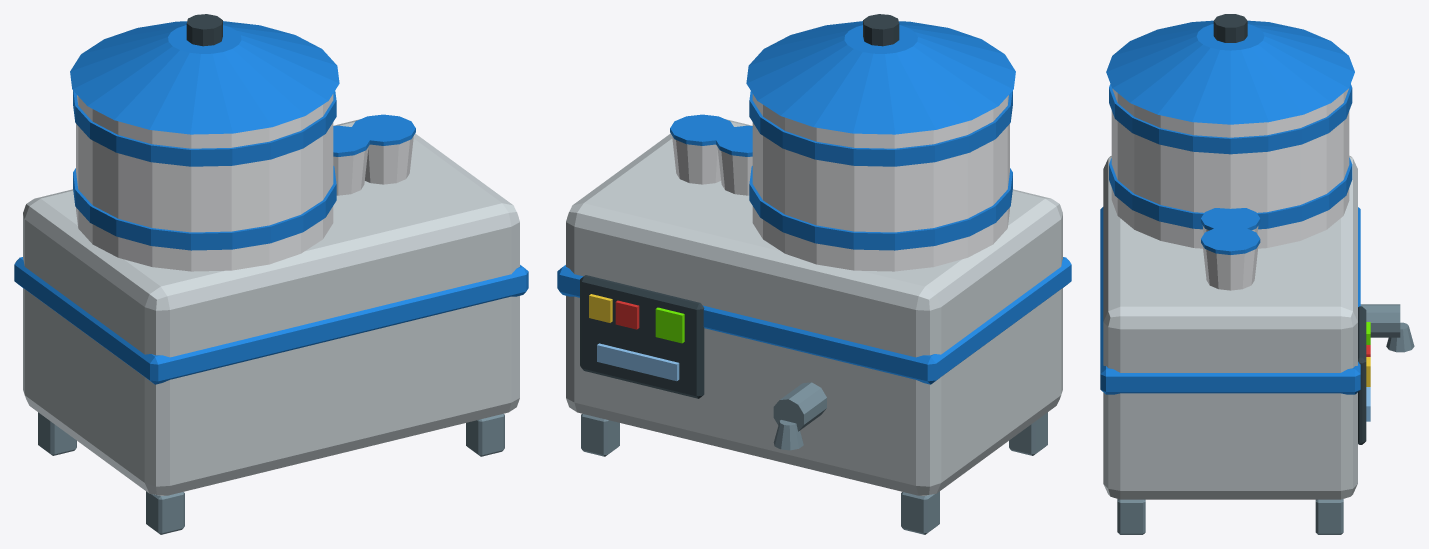
Rendered from Makine_Yogurt_M.fbx.
3 views of the same model, side by side, from view 1: azimuth 30°, elevation 25°; view 2: azimuth 150°, elevation 25°; view 3: azimuth 270°, elevation 25° (orthographic). The views are drawn at different scales.
Visible parts, largest first — view 1: Makine_Yogurt; view 2: Makine_Yogurt; view 3: Makine_Yogurt.
Boxes of the visible parts, <box> form: Makine_Yogurt: <box>14,14,528,534</box>; Makine_Yogurt: <box>557,14,1071,534</box>; Makine_Yogurt: <box>1100,14,1414,534</box>.
Bounding box in the file's own units: 142 × 159 × 111.
